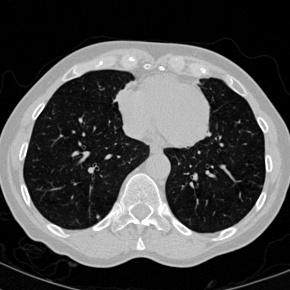PN: (95, 215, 99, 219)
